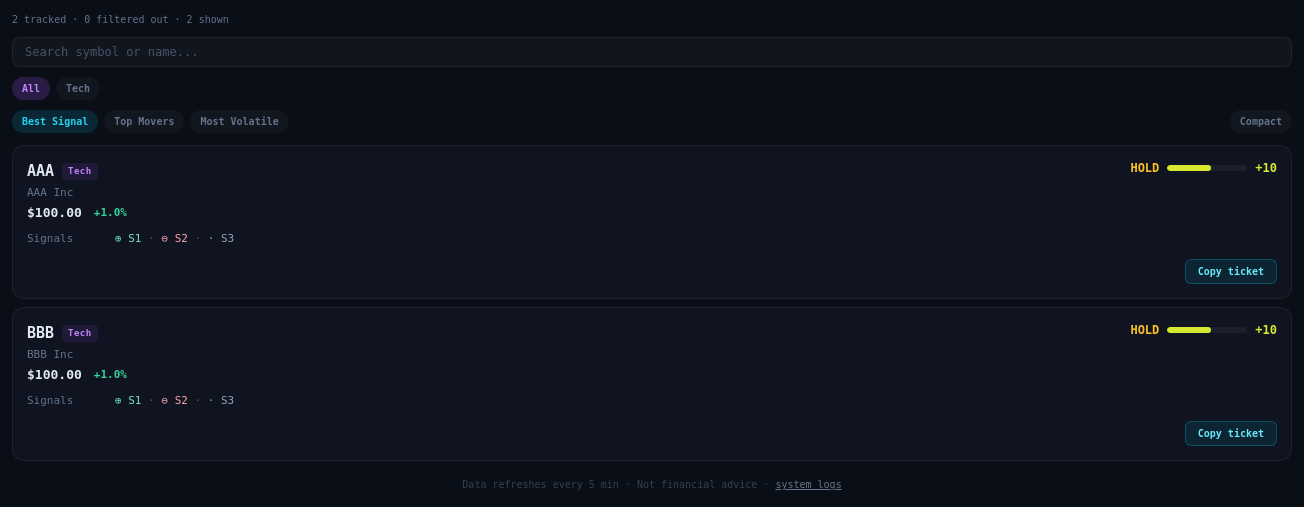
Test case: ScannerView › filters by search (symbol or name)
Type "AAA" into the field with placeholder "Search symbol or name...".
click(652, 52); type("AAA")  # box [12,37,1292,67]
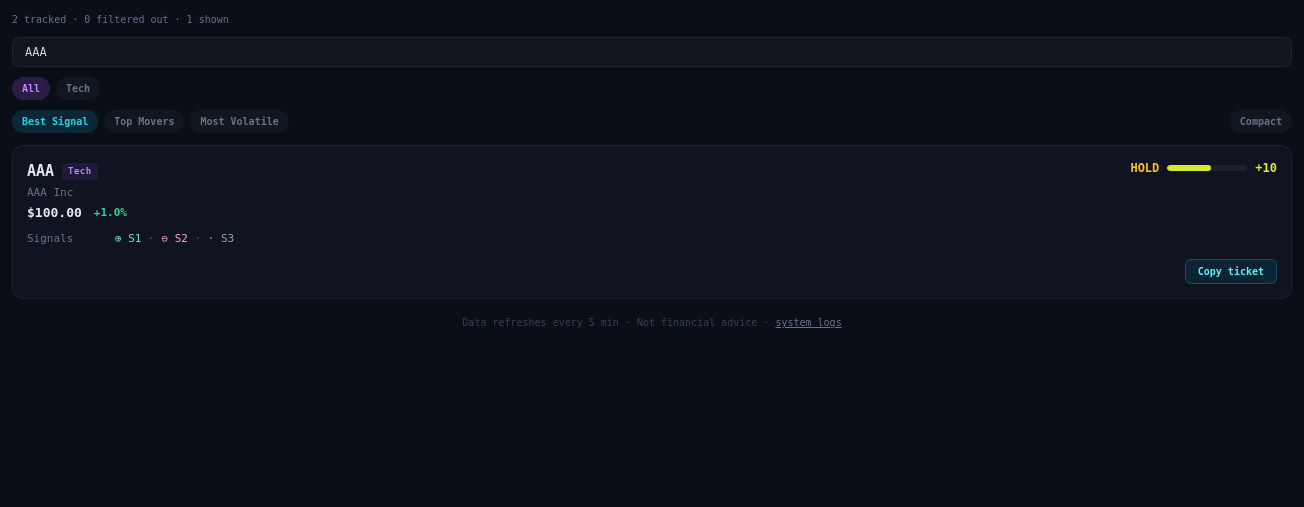
Expected: the text "AAA" is shown, [27,160,54,182]
Now the text "BBB" is gone
